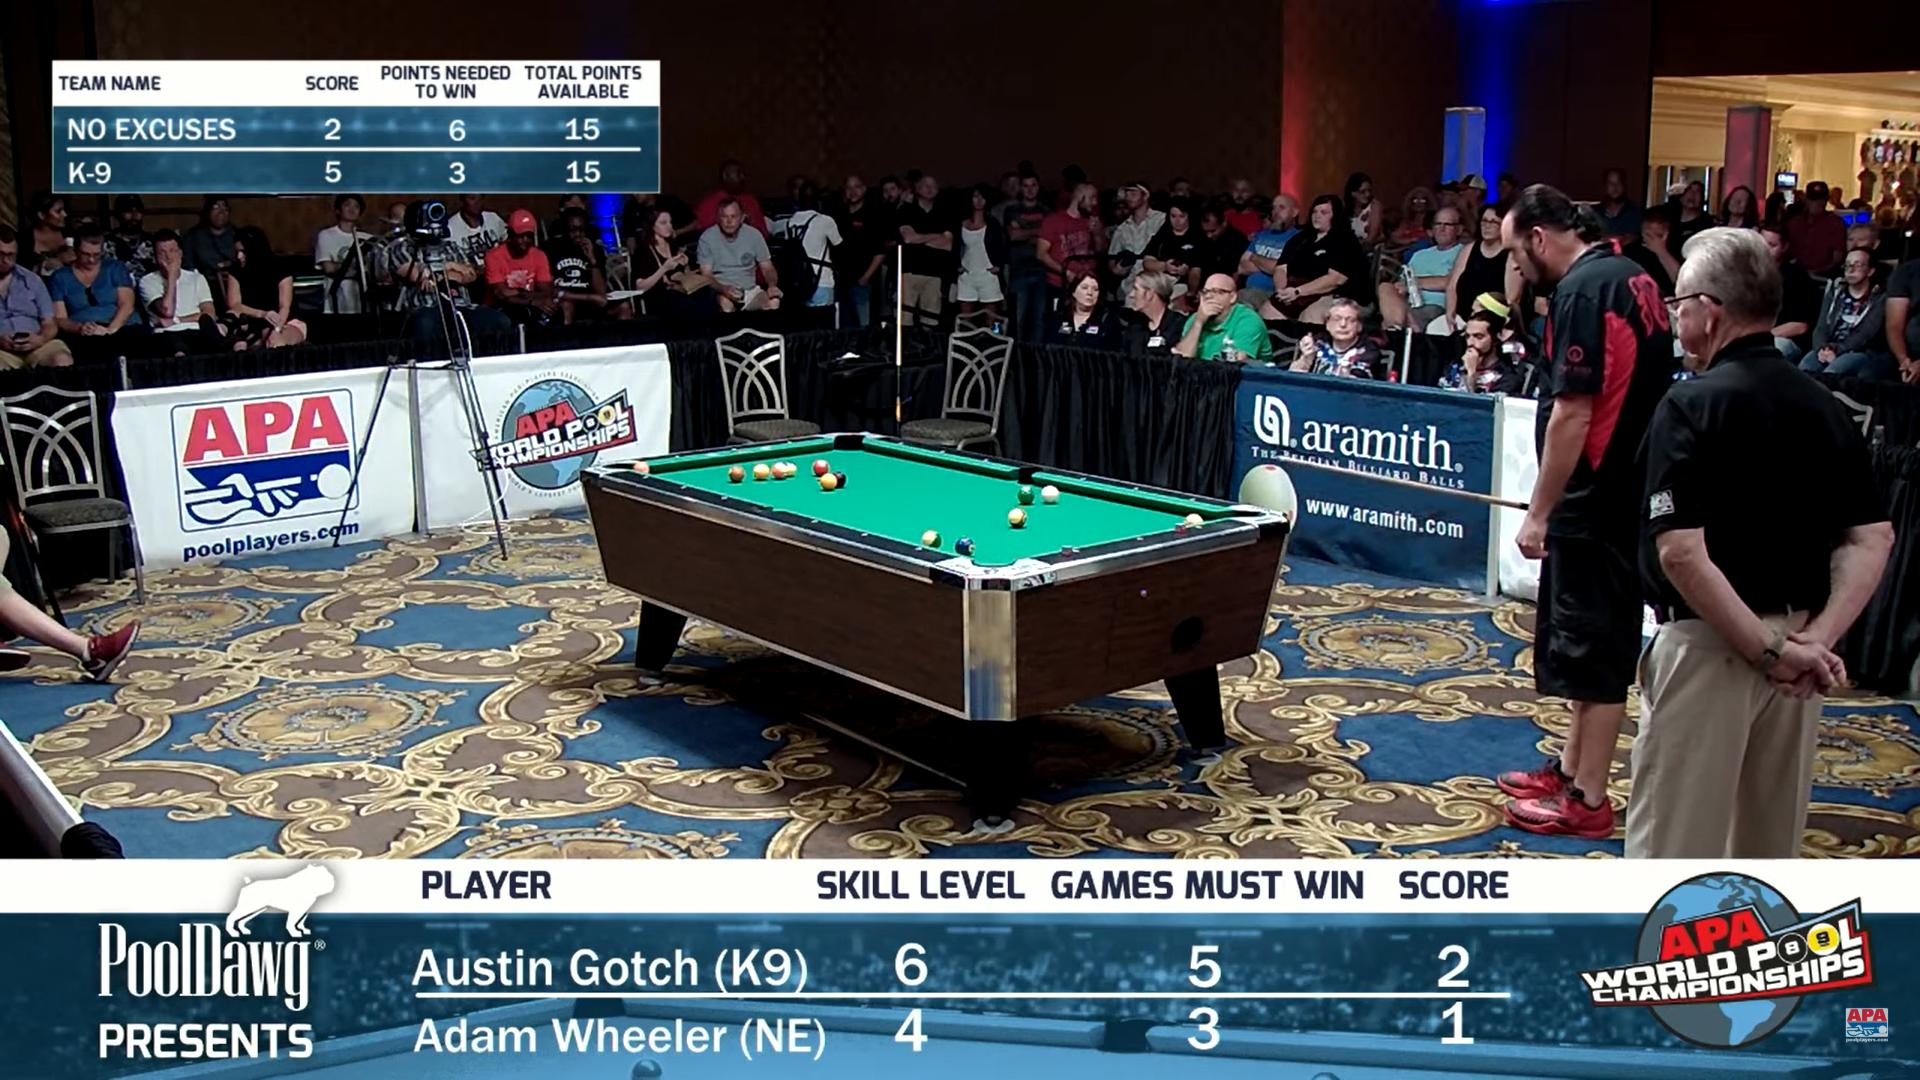Black: (832, 471, 847, 488)
Cue: (1040, 485, 1059, 502)
Dot: (782, 438, 796, 448), (935, 447, 949, 458), (1129, 484, 1143, 495), (1185, 495, 1200, 505), (1192, 522, 1207, 533), (1133, 534, 1147, 545), (1068, 546, 1083, 556), (728, 444, 741, 455), (1076, 475, 1089, 485), (808, 516, 822, 526), (638, 472, 651, 483), (670, 452, 684, 462), (894, 439, 909, 448), (978, 456, 993, 465), (911, 545, 926, 554), (857, 530, 872, 539), (676, 483, 691, 492), (717, 493, 731, 502)
Solid: (955, 537, 975, 556), (820, 472, 837, 489), (1018, 487, 1035, 504), (729, 465, 745, 483), (814, 459, 828, 476), (634, 462, 650, 473)
Striped: (922, 530, 942, 549), (1007, 508, 1026, 527), (753, 463, 770, 480), (771, 462, 787, 479), (1184, 513, 1204, 526), (783, 460, 796, 476)
